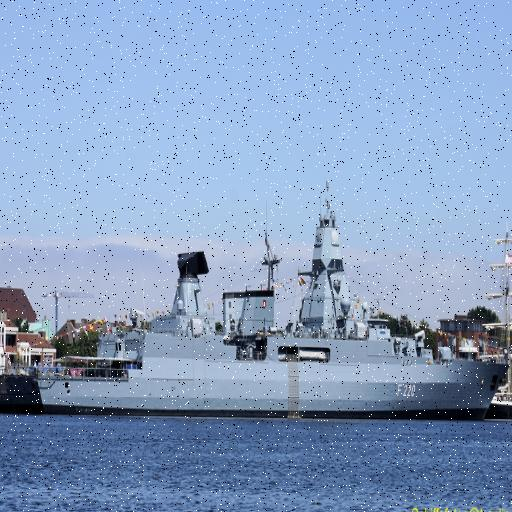Fragata: (1, 185, 512, 419)
